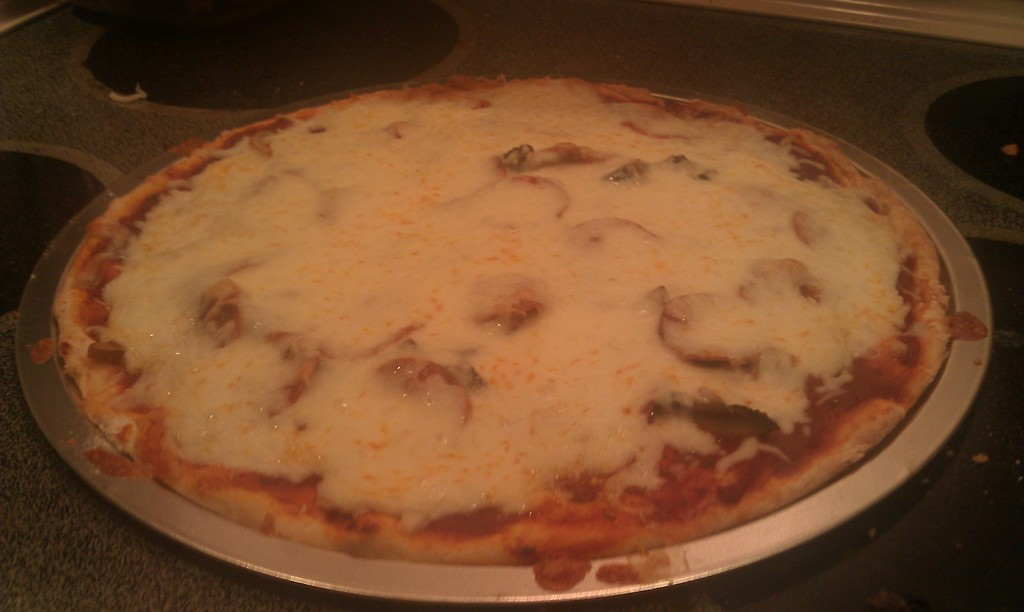Pizza: (55, 74, 958, 567)
